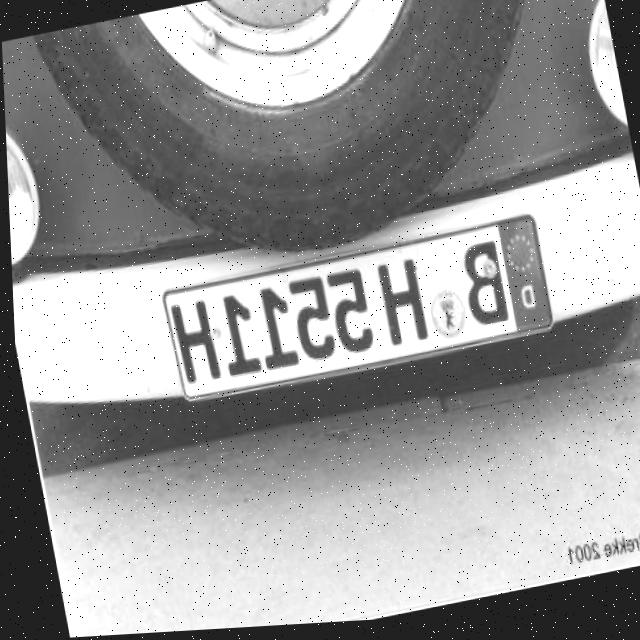license-plates: (163, 216, 553, 400)
